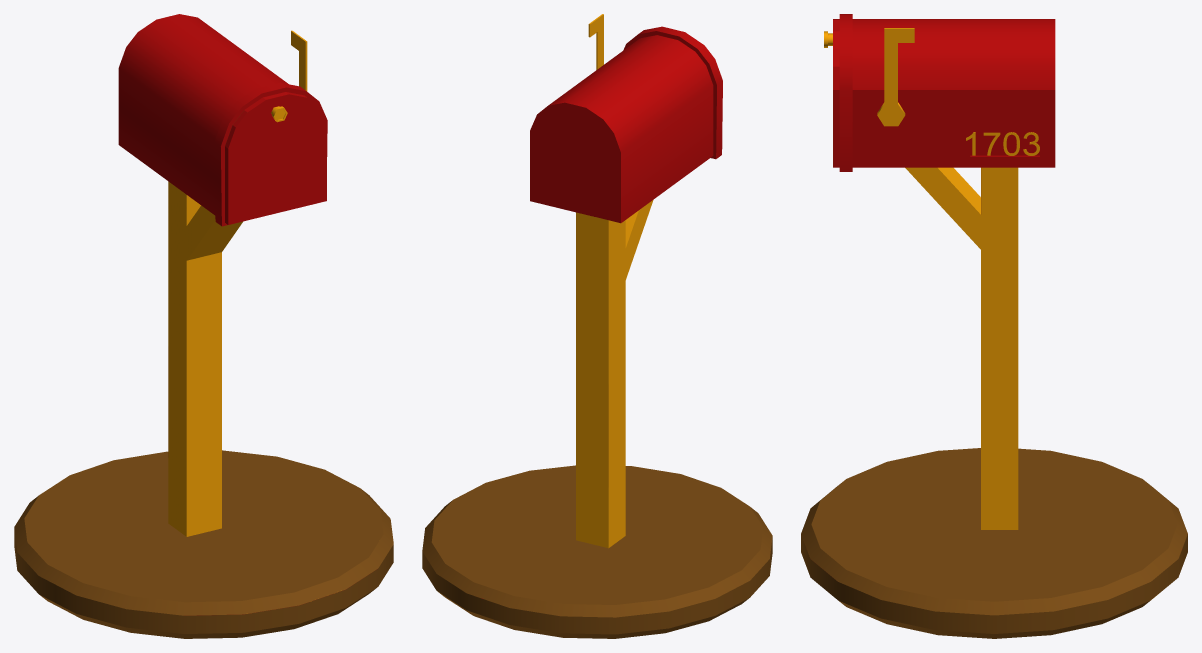
File: homthu.fbx
3 renders of one model, left to right at view 1: azimuth 30°, elevation 25°; view 2: azimuth 150°, elevation 25°; view 3: azimuth 270°, elevation 25°, orthographic. The views are drawn at different scales.
Visible parts, largest first — view 1: homthu; view 2: homthu; view 3: homthu.
Boxes of the visible parts, box(x1,y1,x2,y2) form: homthu: box(14, 14, 393, 638); homthu: box(422, 14, 772, 638); homthu: box(801, 14, 1187, 638).
Size of the model in its own units: 83.77 by 133 by 83.77.
